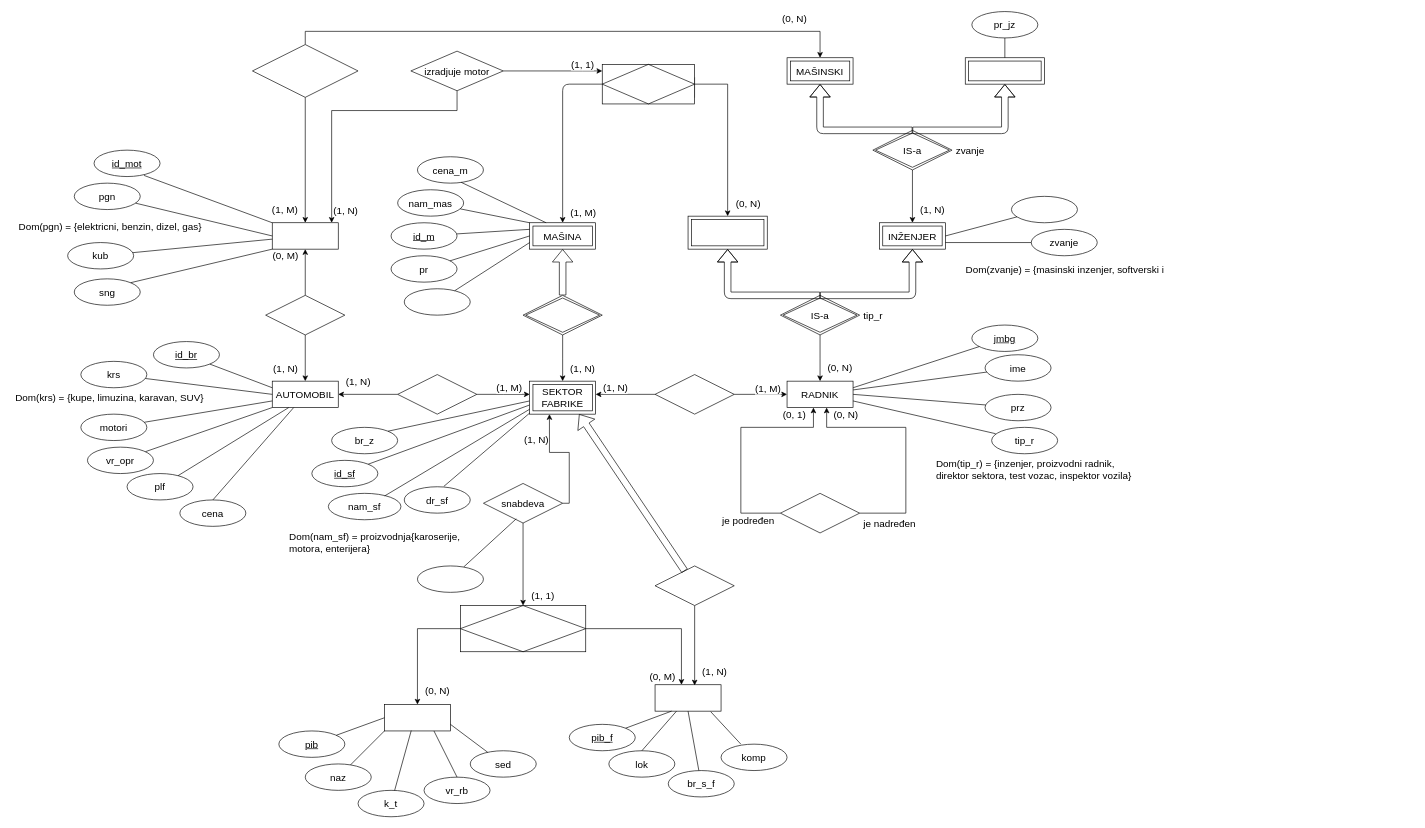
Some shapes in this 1425 by 828 pixel diagram are drawn without their labels. The shapes that lost their labels are listed below. From the top down, each one's centre as x and y in pixels, then its label:
(x=305, y=70): radi na proizvodnji
(x=648, y=84): KORISTI
(x=1004, y=70): SOFTVERSKI
(x=1044, y=209): br_pr
(x=305, y=235): MOTOR
(x=727, y=232): PROIZVODNI RADNIK
(x=305, y=315): je ugrađen
(x=437, y=301): god_pr
(x=562, y=315): se nalazi
(x=437, y=394): prolazi
(x=694, y=394): radi
(x=820, y=513): šefuje
(x=450, y=578): dpu
(x=694, y=585): sastoji se
(x=523, y=628): POTPISAN UGOVOR
(x=417, y=717): DOBAVLJAČ ROBE
(x=687, y=697): FABRIKA
